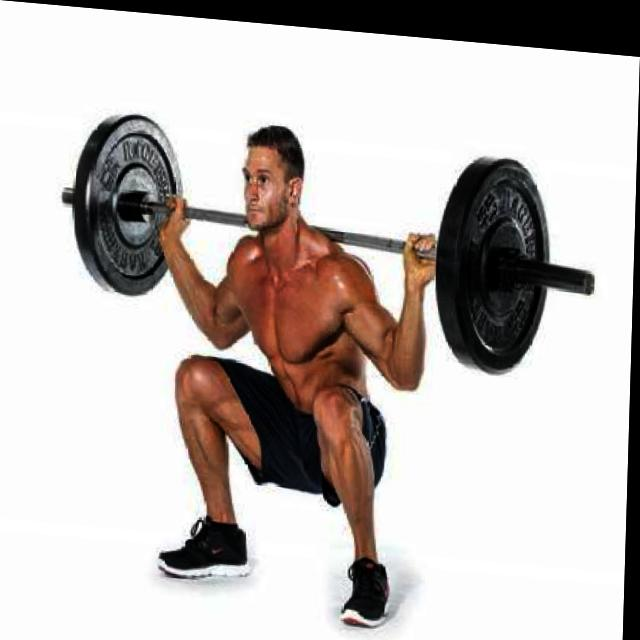barbell: (448, 143, 602, 378)
